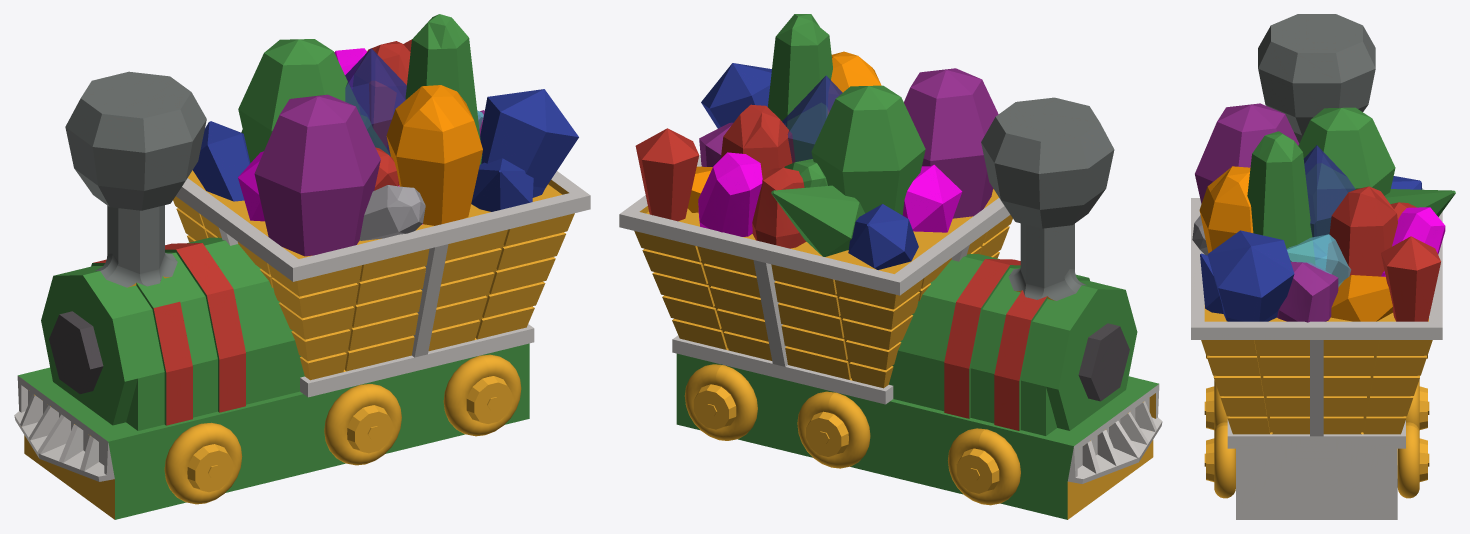
File: Minecart-transformed.glb
3 views of the same model, side by side, from view 1: azimuth 30°, elevation 25°; view 2: azimuth 150°, elevation 25°; view 3: azimuth 270°, elevation 25° (orthographic). The views are drawn at different scales.
Parts seen in each view (by area): view 1: Body1; view 2: Body1; view 3: Body1.
Part boxes in pixels (x1,y1,x2,y2): Body1: (14,14,590,519); Body1: (619,14,1162,519); Body1: (1191,14,1455,519).
Bounding box in the file's own units: 7.7 × 5.94 × 3.98.
Materials: 5 (5 with a texture image).
